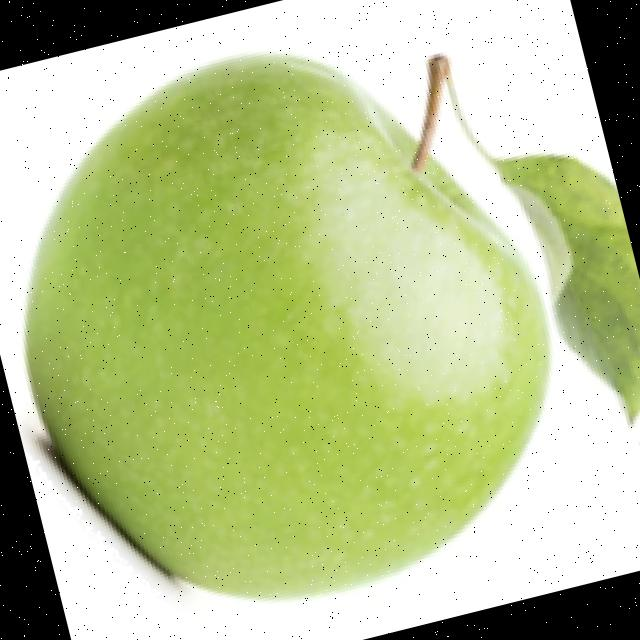apple: (16, 46, 640, 606)
